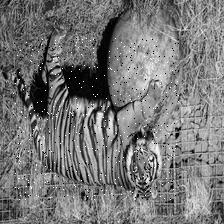tiger: (13, 37, 179, 199)
